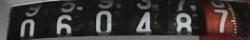digits: (55, 0, 76, 40), (20, 3, 42, 40), (170, 0, 192, 36), (94, 8, 115, 39), (213, 8, 228, 32), (135, 10, 151, 32)
